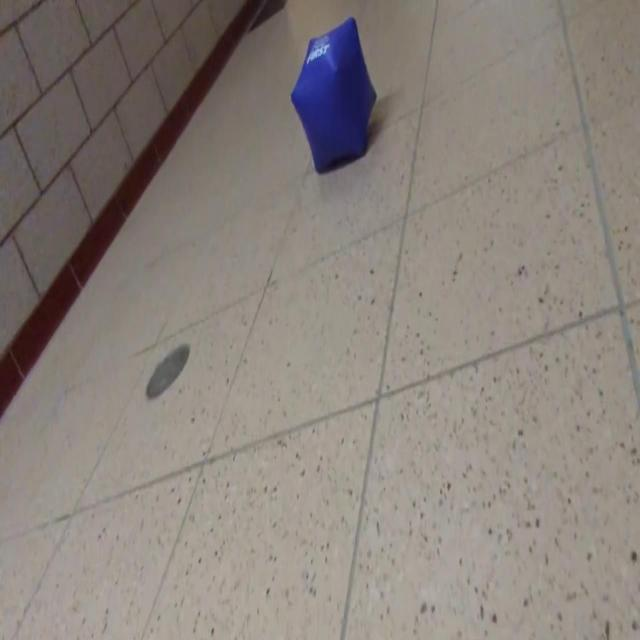frc_cube: (289, 16, 378, 171)
